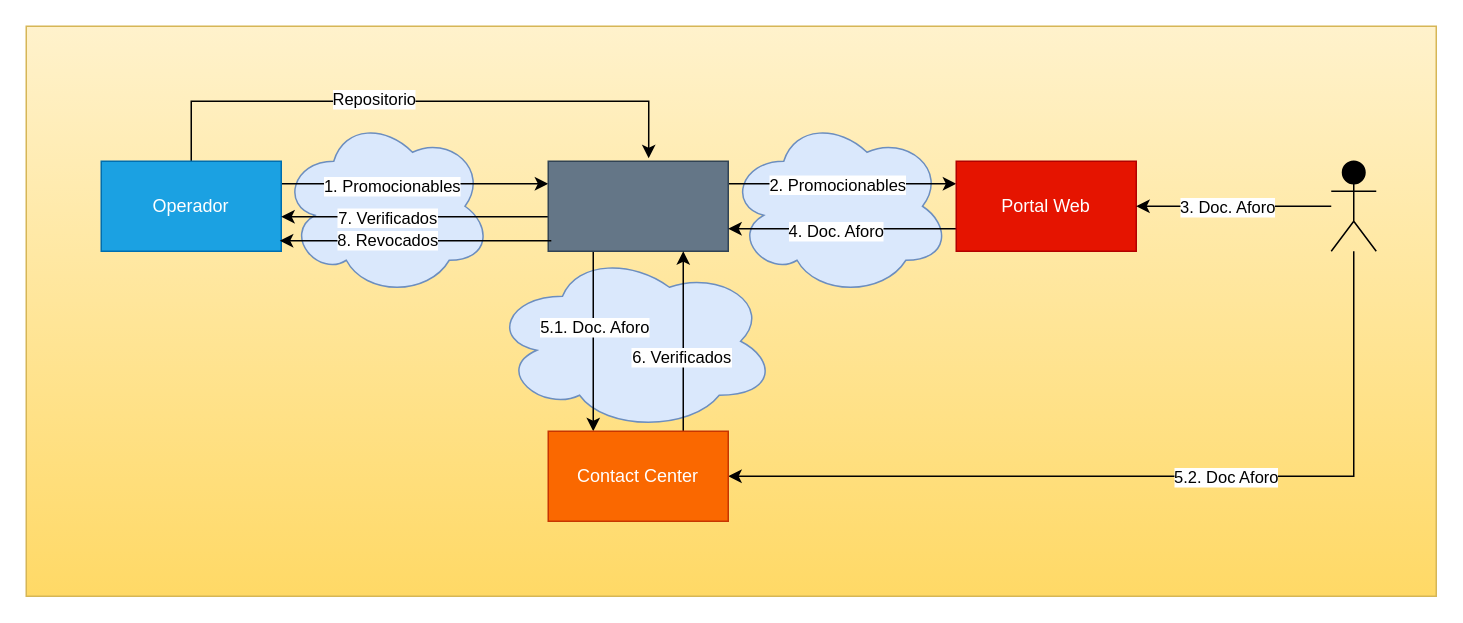
Some shapes in this 1463 by 623 pixel diagram are drawn without their labels. The shapes that lost their labels are listed below. From the top down, each one's centre as x and y in pixels, then its label:
At point (637, 205): "LaLiga BI".
At point (1353, 205): "Clientes".
